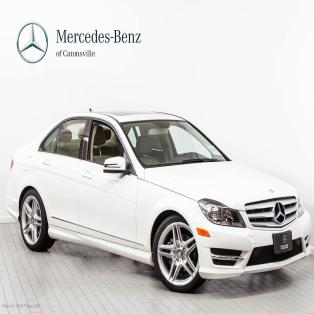Auto: (3, 98, 313, 312)
